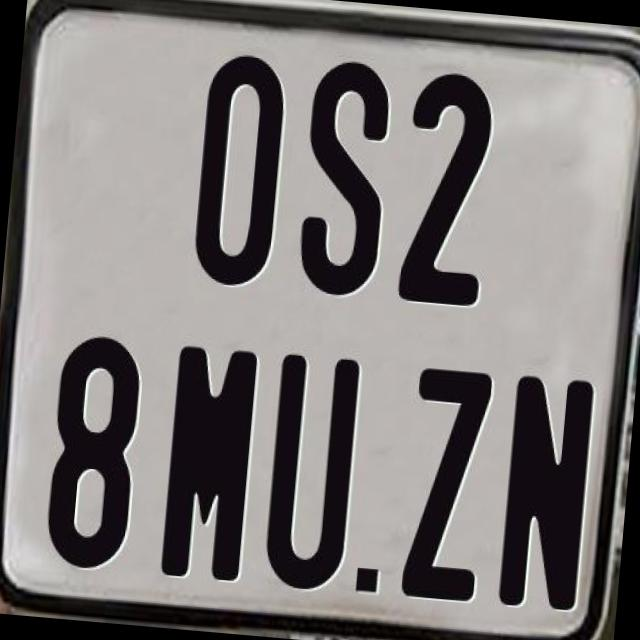0: (188, 47, 288, 292)
2: (394, 66, 494, 304)
8: (42, 332, 146, 578)
M: (160, 340, 260, 583)
N: (494, 372, 598, 612)
S: (293, 53, 396, 299)
U: (262, 351, 362, 588)
Z: (397, 362, 491, 598)
